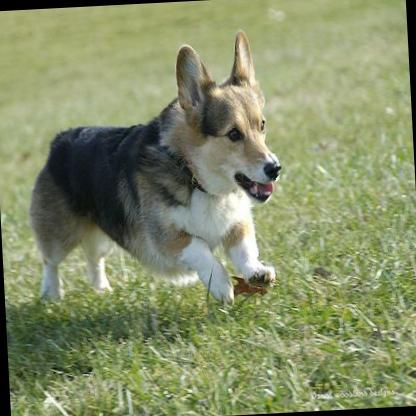Pembroke: (15, 26, 292, 328)
